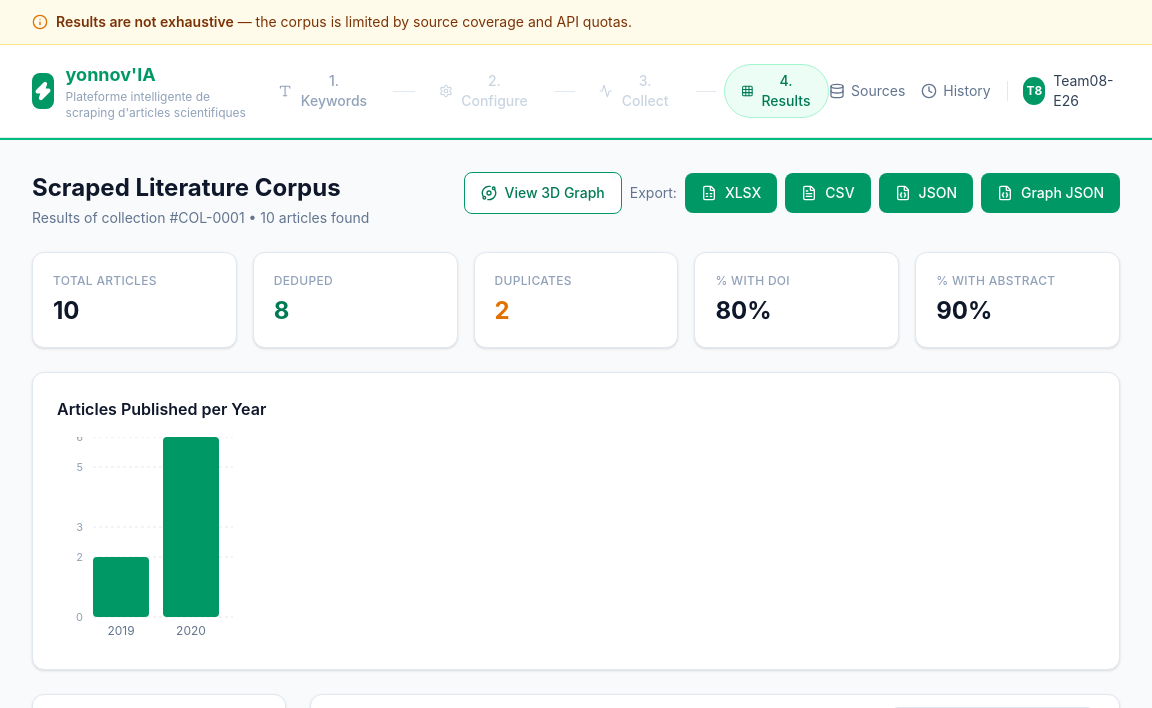
it: ResultsPage - export buttons (US-06.1, US-06.2) › shows an error message when the export fails, without crashing the page
The width and height of the screenshot is (1152, 708).
Click the button "JSON" at (926, 193), box [879,173,973,213]
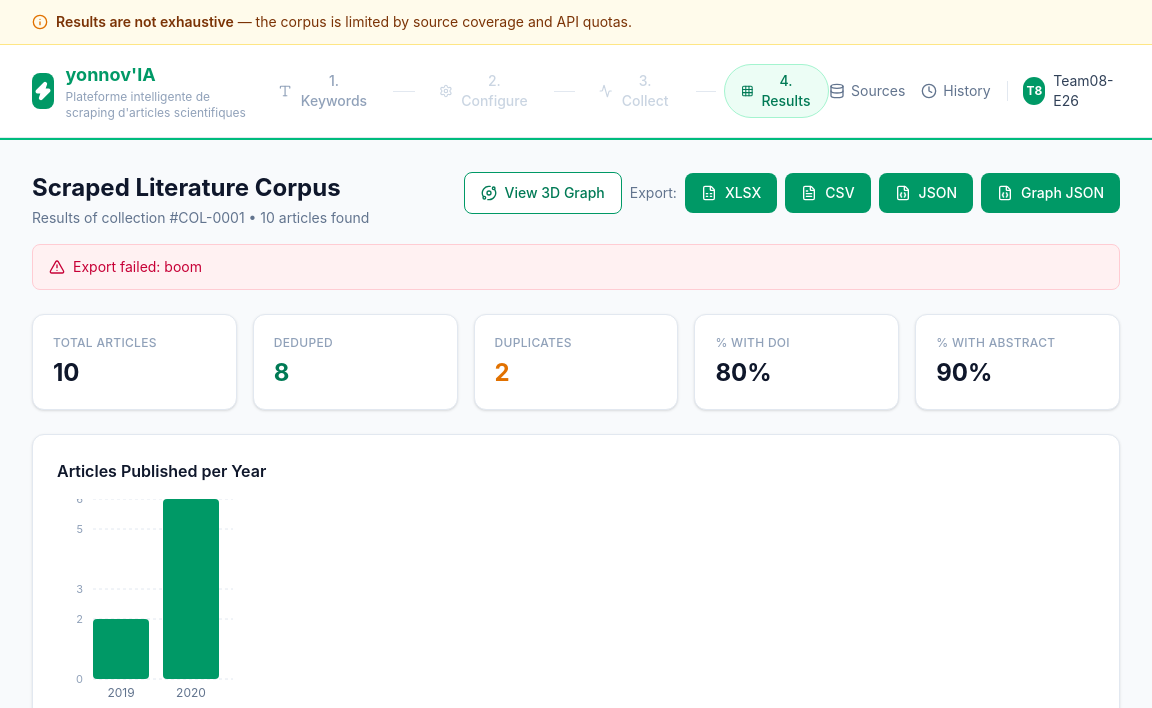
Expected: the text "Export failed: boom" is shown, [32,244,1120,290]
